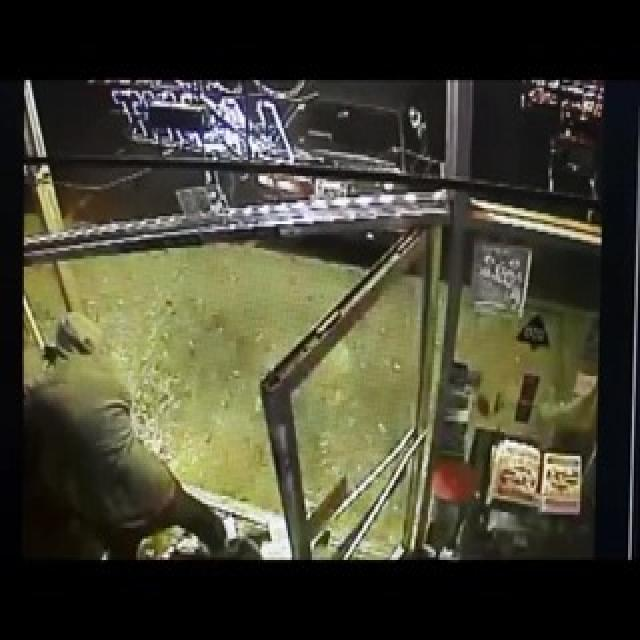thief: (37, 308, 159, 416)
